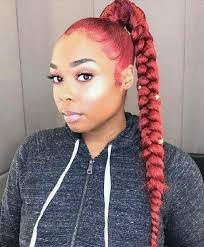person: (47, 16, 137, 134)
